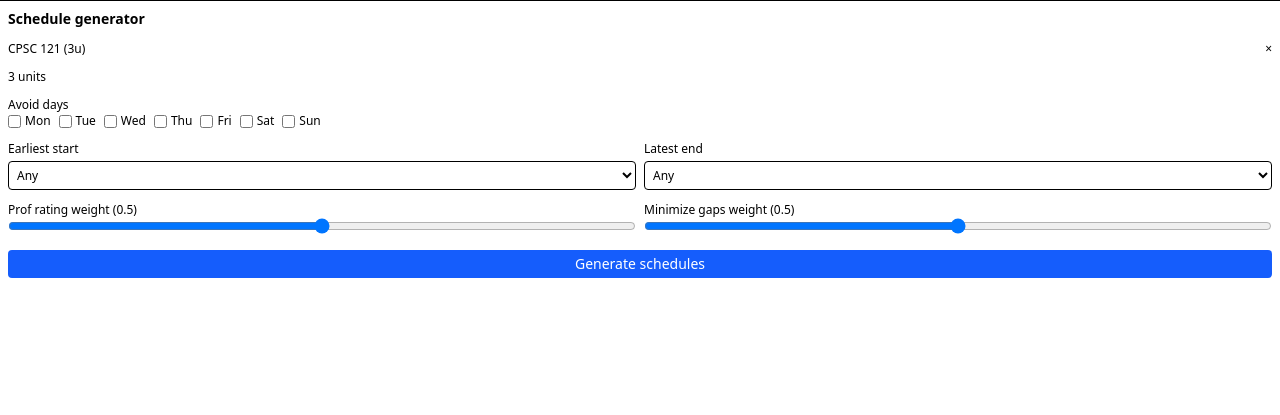
Scenario: SolverPanel › respects avoid-day prefs via checkboxes
The image size is (1280, 415).
Click the checkbox labelled "Mon".
click(14, 121)  # box [8, 114, 21, 128]
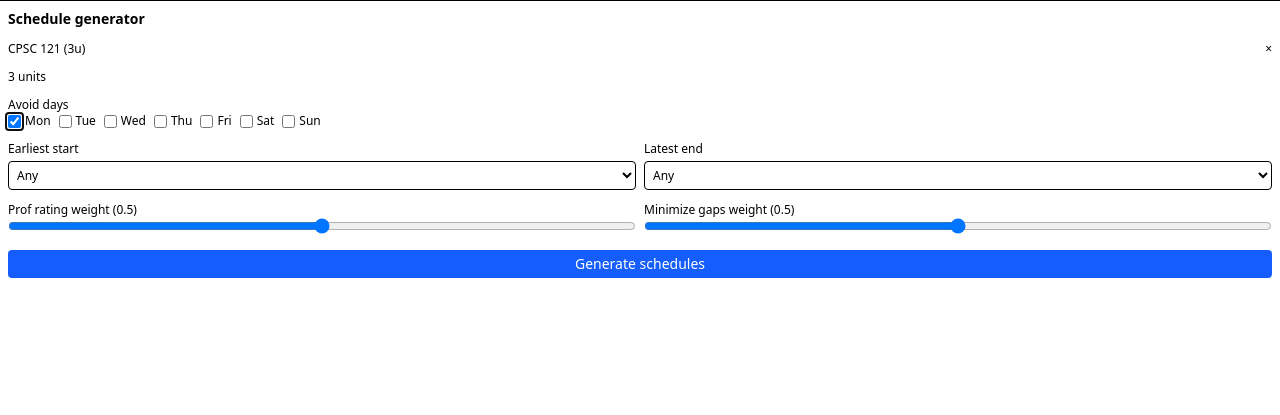
Click the button "Generate schedules".
click(640, 264)  # box [8, 250, 1272, 278]
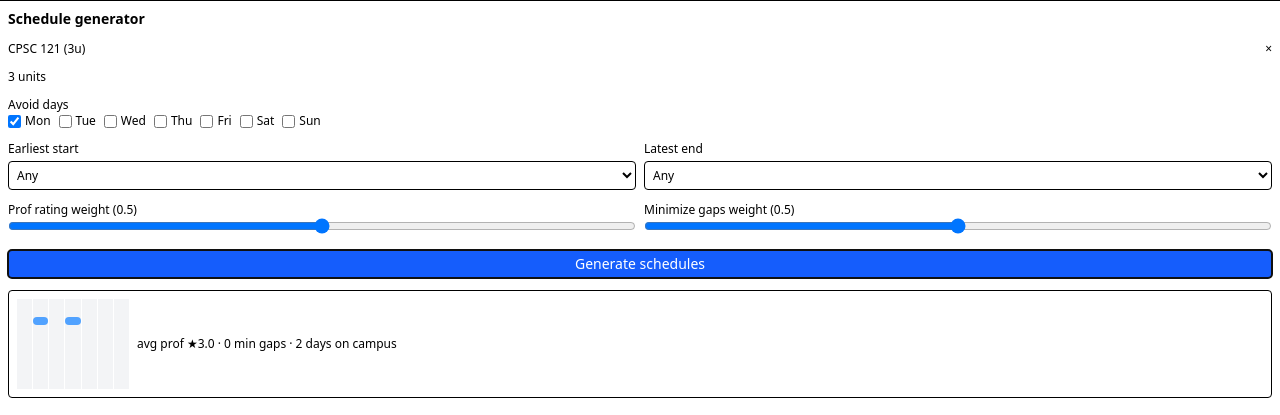
Now the number of buttons with test id "candidate" is 1, box [8, 290, 1272, 398]
